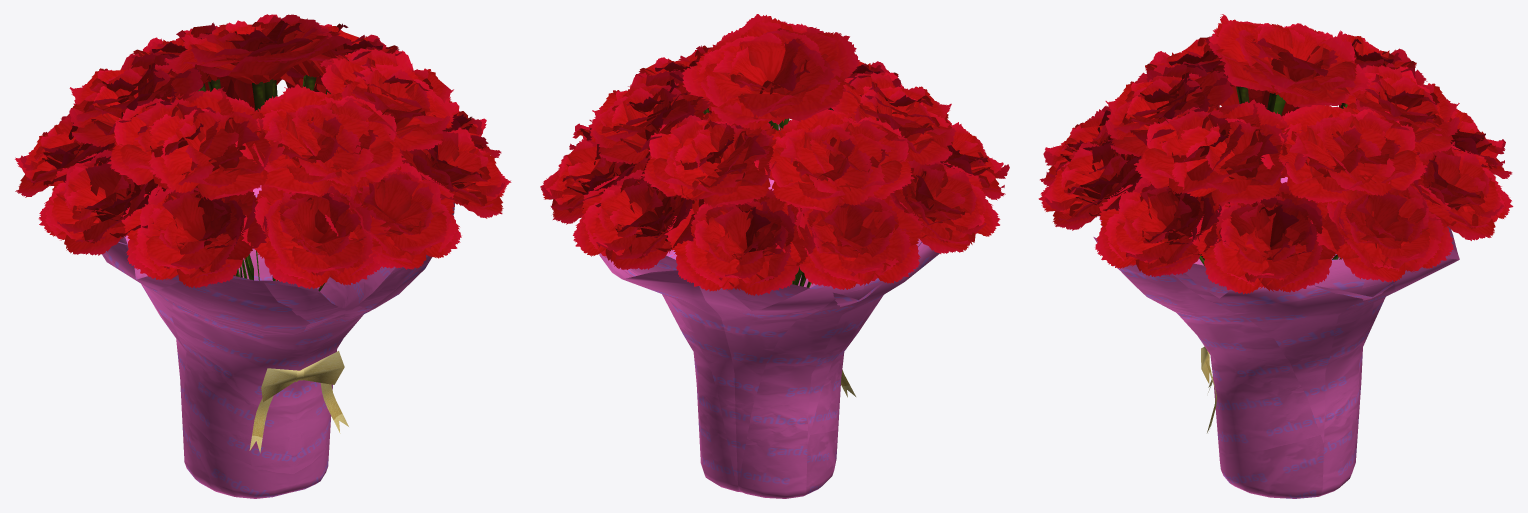
File: potted_carnation_red.glb
3 views of the same model, side by side, from view 1: azimuth 30°, elevation 25°; view 2: azimuth 150°, elevation 25°; view 3: azimuth 270°, elevation 25° (orthographic). The views are drawn at different scales.
Parts seen in each view (by area): view 1: Plane.104_0; view 2: Plane.104_0; view 3: Plane.104_0.
Part boxes in pixels (x1,y1,x2,y2): Plane.104_0: (15,14,511,498); Plane.104_0: (540,14,1009,498); Plane.104_0: (1038,14,1513,498).
Bounding box in the file's own units: 109 × 110 × 107.
Materials: 4 (4 with a texture image).
